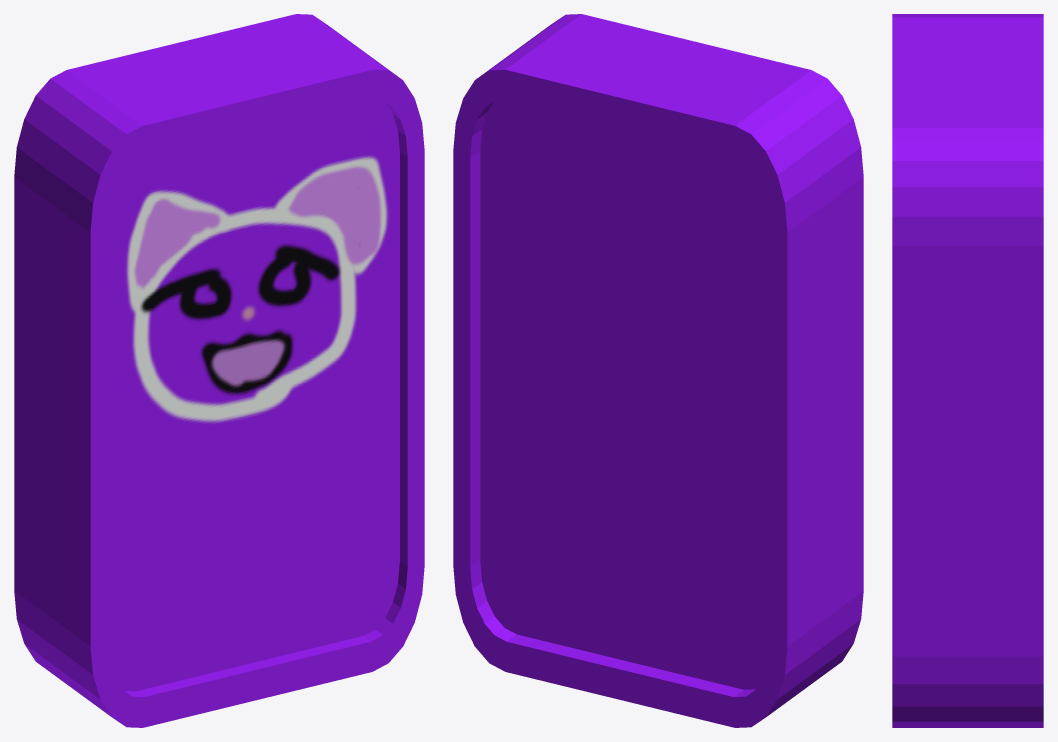
The model's file is domino.glb.
3 views of the same model, side by side, from view 1: azimuth 30°, elevation 25°; view 2: azimuth 150°, elevation 25°; view 3: azimuth 270°, elevation 25° (orthographic).
Parts seen in each view (by area): view 1: Cube; view 2: Cube; view 3: Cube.
Part boxes in pixels (x1,y1,x2,y2): Cube: (14,14,424,727); Cube: (453,14,863,727); Cube: (892,14,1043,727).
Bounding box in the file's own units: 1 × 1.72 × 0.3953.
1 material, 1 textured.
